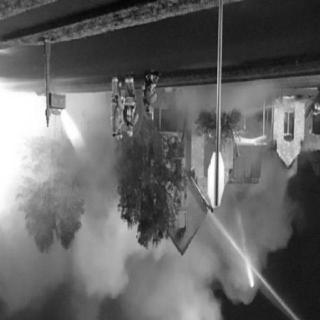other: (204, 147, 228, 213), (247, 257, 255, 287)
